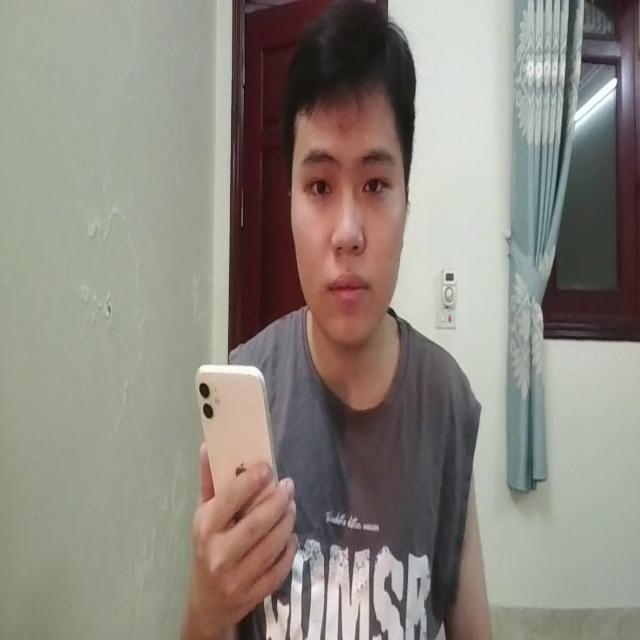phone: (194, 350, 278, 538)
student: (192, 0, 490, 640)
